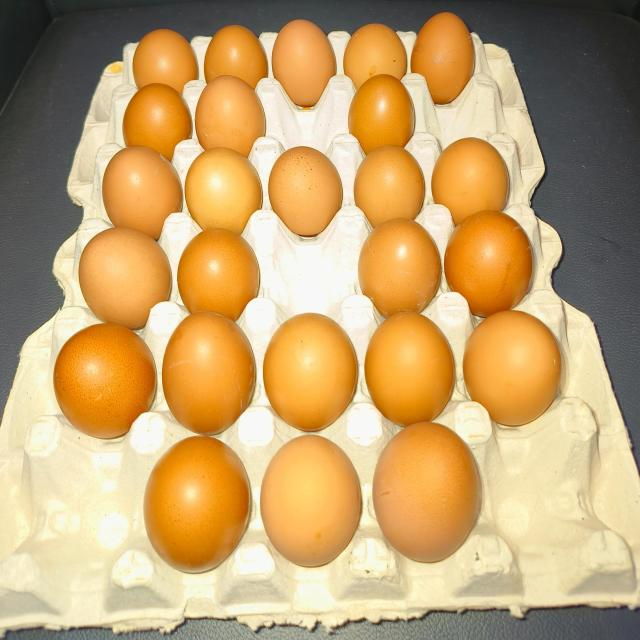Eggs: (260, 443, 355, 566), (50, 324, 154, 434), (170, 311, 260, 437), (396, 432, 486, 556), (264, 311, 356, 425), (154, 453, 252, 558), (468, 316, 562, 414), (444, 218, 544, 310), (71, 232, 170, 321), (379, 314, 450, 425), (268, 141, 342, 242), (181, 230, 265, 311), (429, 135, 509, 214), (369, 224, 440, 311), (105, 151, 180, 224), (282, 7, 338, 104), (361, 146, 430, 218), (200, 73, 269, 144), (196, 152, 258, 228), (348, 6, 412, 76), (209, 9, 270, 82), (128, 79, 192, 145), (360, 86, 416, 160), (420, 12, 475, 86), (142, 18, 200, 78)
